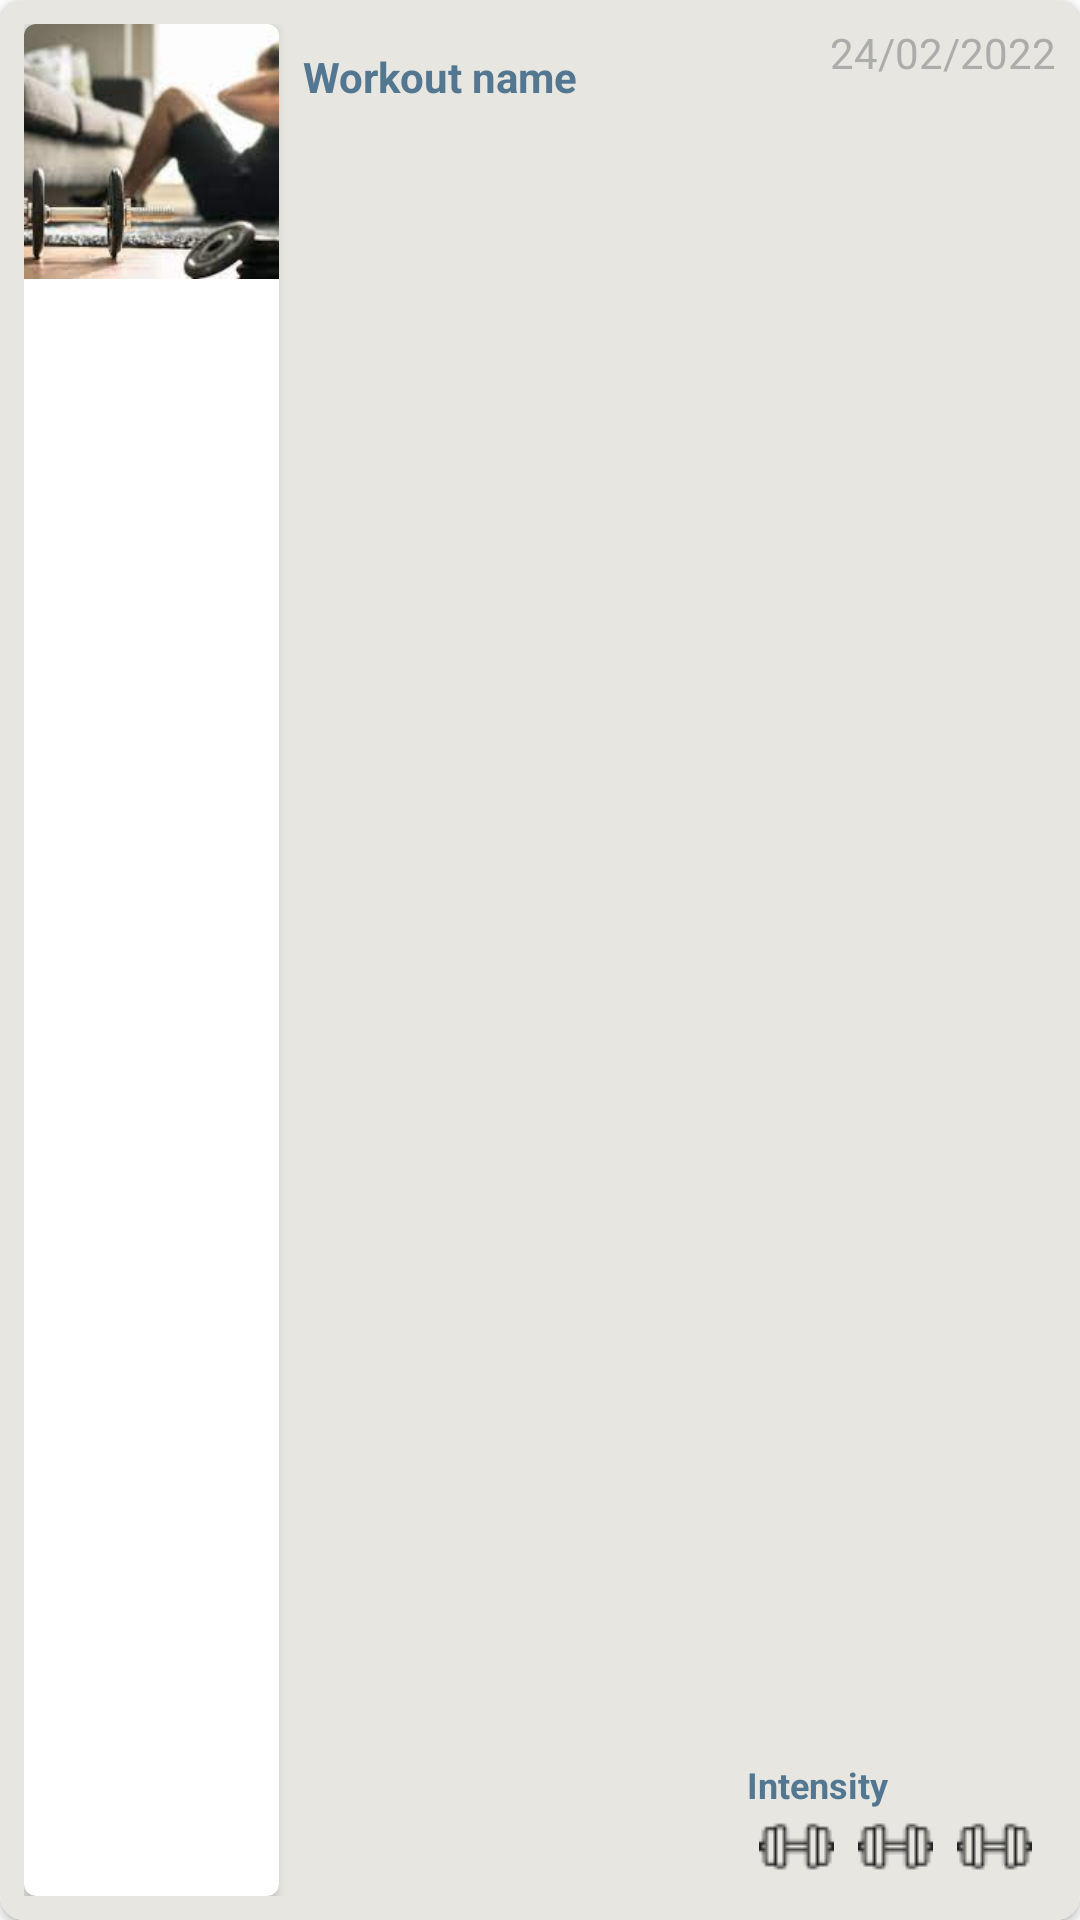

Icons on this 1080px x 1920px Android screen, each with the point to tap as (x,y):
dumbell: (796,1846), (895,1846), (994,1846)
